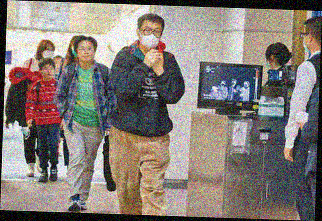with_mask: (139, 25, 163, 50), (40, 46, 55, 62)
without_mask: (75, 44, 97, 63), (41, 65, 56, 80)
